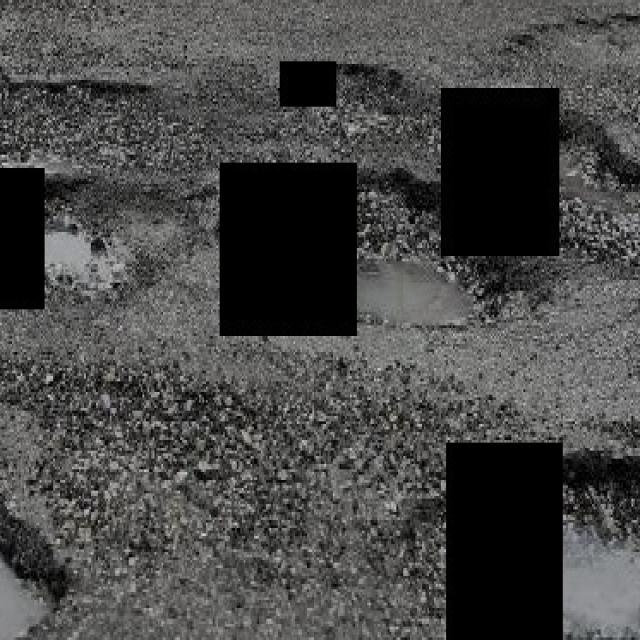road-pothole: (357, 168, 547, 321), (49, 168, 214, 301), (2, 73, 179, 165), (560, 447, 638, 637), (0, 506, 66, 637), (557, 112, 638, 211), (337, 59, 435, 130)
